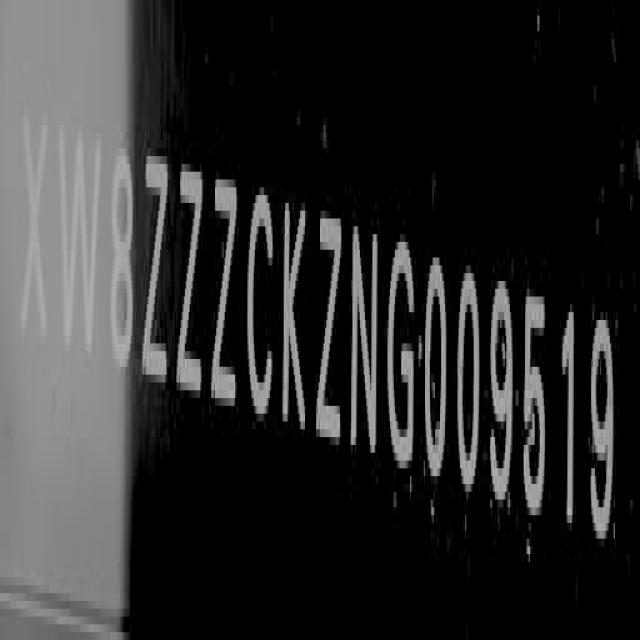0: (455, 251, 482, 503), (425, 232, 449, 488)
1: (559, 286, 579, 546)
5: (522, 272, 547, 532)
8: (110, 136, 134, 393)
9: (587, 307, 615, 552), (487, 266, 514, 509)
C: (244, 170, 275, 428)
G: (383, 196, 417, 480)
K: (280, 180, 310, 466)
N: (350, 202, 378, 468)
W: (56, 110, 102, 370)
X: (20, 95, 50, 370)
Z: (315, 185, 343, 480), (177, 139, 204, 410), (143, 136, 169, 399), (212, 156, 238, 416)
